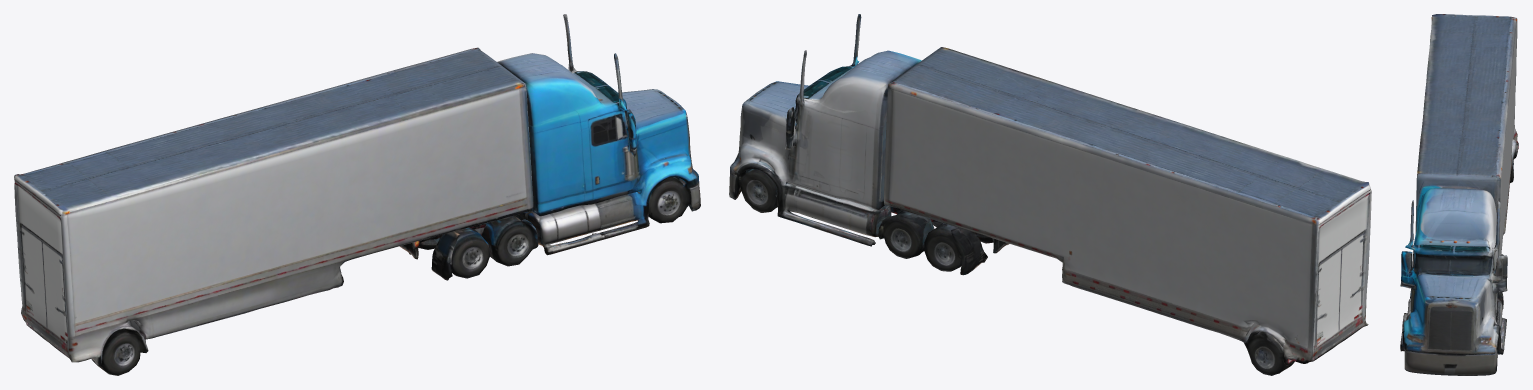
The model's file is truck_with_beam.glb.
The picture shows the model from 3 angles, left to right: view 1: azimuth 30°, elevation 25°; view 2: azimuth 150°, elevation 25°; view 3: azimuth 270°, elevation 25°; orthographic projection. The views are drawn at different scales.
Visible parts, largest first — view 1: Mesh_0; view 2: Mesh_0; view 3: Mesh_0.
Boxes of the visible parts, x1,y1,x2,y2 form: Mesh_0: (14, 14, 700, 375); Mesh_0: (729, 14, 1371, 375); Mesh_0: (1400, 14, 1518, 375).
Bounding box in the file's own units: 2.03 × 0.6501 × 0.4059.
1 material, 1 textured.
